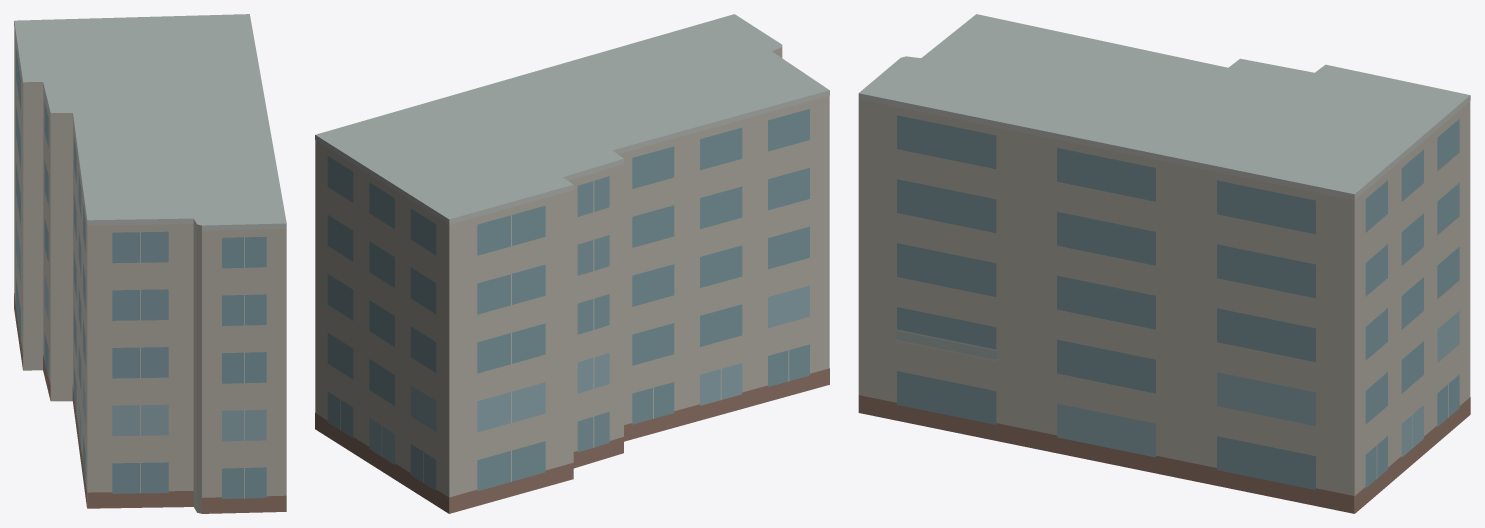
File: survey-upis-32621781.glb
The picture shows the model from 3 angles, left to right: view 1: azimuth 30°, elevation 25°; view 2: azimuth 150°, elevation 25°; view 3: azimuth 270°, elevation 25°; orthographic projection. The views are drawn at different scales.
Visible parts, largest first — view 1: survey-upis-32621781.tmp; view 2: survey-upis-32621781.tmp; view 3: survey-upis-32621781.tmp.
Part boxes in pixels (box(x1,y1,x2,y2)): survey-upis-32621781.tmp: box(14, 14, 286, 513); survey-upis-32621781.tmp: box(315, 14, 829, 513); survey-upis-32621781.tmp: box(858, 14, 1470, 513).
Bounding box in the file's own units: 16.22 × 13.4 × 23.26.
